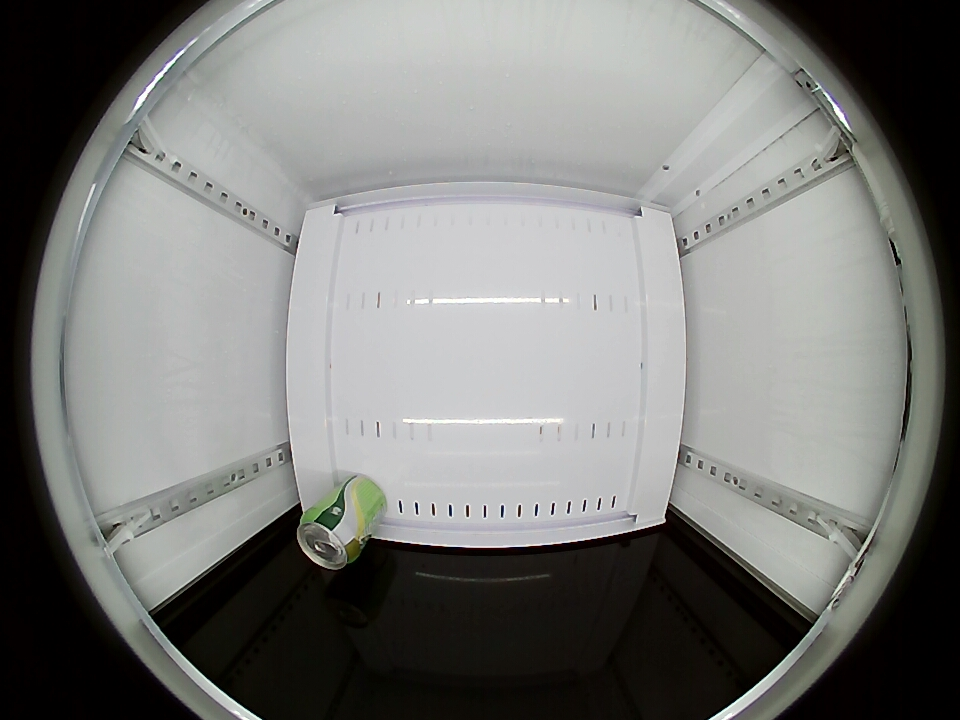quchenshixiangcao: (297, 511, 362, 569)
